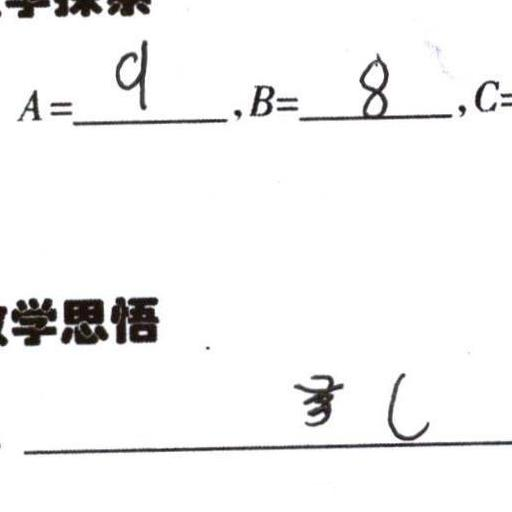ans: (381, 368, 432, 444), (112, 37, 153, 113), (357, 53, 392, 118)
